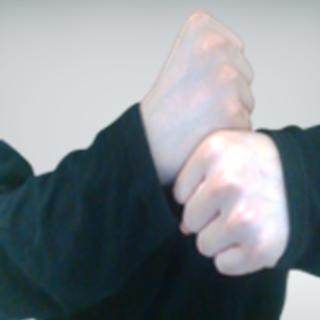CAREFUL: (140, 2, 291, 282)
